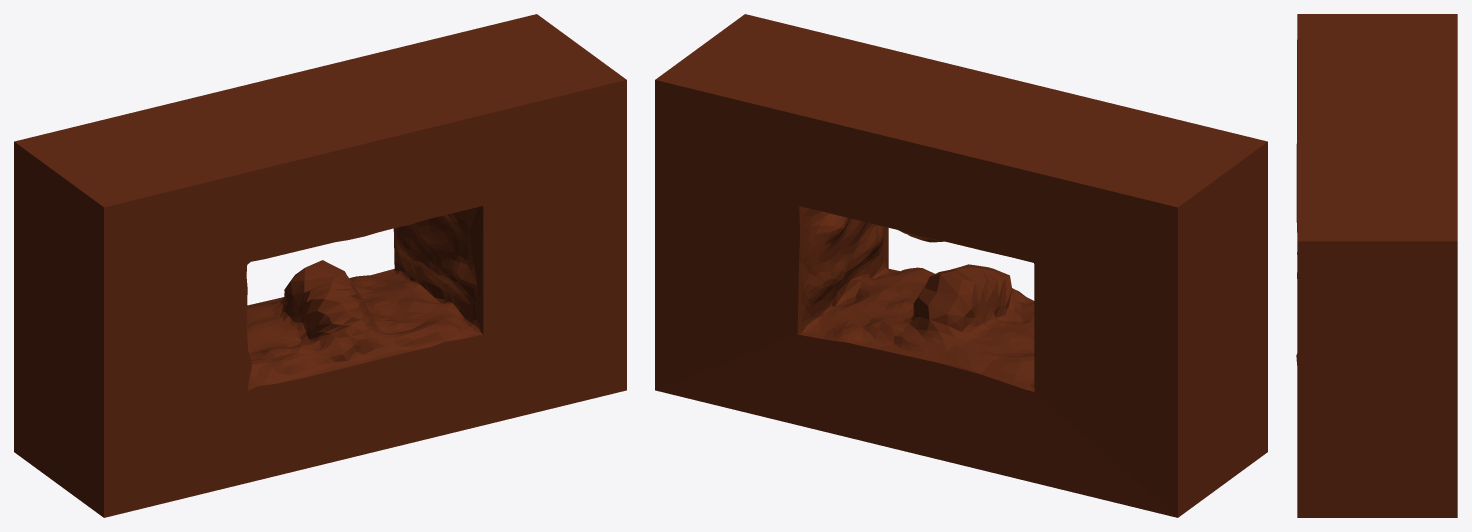
Rendered from BaseWorld_Level_02.glb.
The picture shows the model from 3 angles, left to right: view 1: azimuth 30°, elevation 25°; view 2: azimuth 150°, elevation 25°; view 3: azimuth 270°, elevation 25°; orthographic projection. The views are drawn at different scales.
Parts seen in each view (by area): view 1: Cube; view 2: Cube; view 3: Cube.
Part boxes in pixels (x1,y1,x2,y2): Cube: [14, 14, 626, 517]; Cube: [655, 14, 1267, 517]; Cube: [1296, 14, 1457, 517].
Size of the model in its own units: 67.08 by 38.07 by 20.11.
